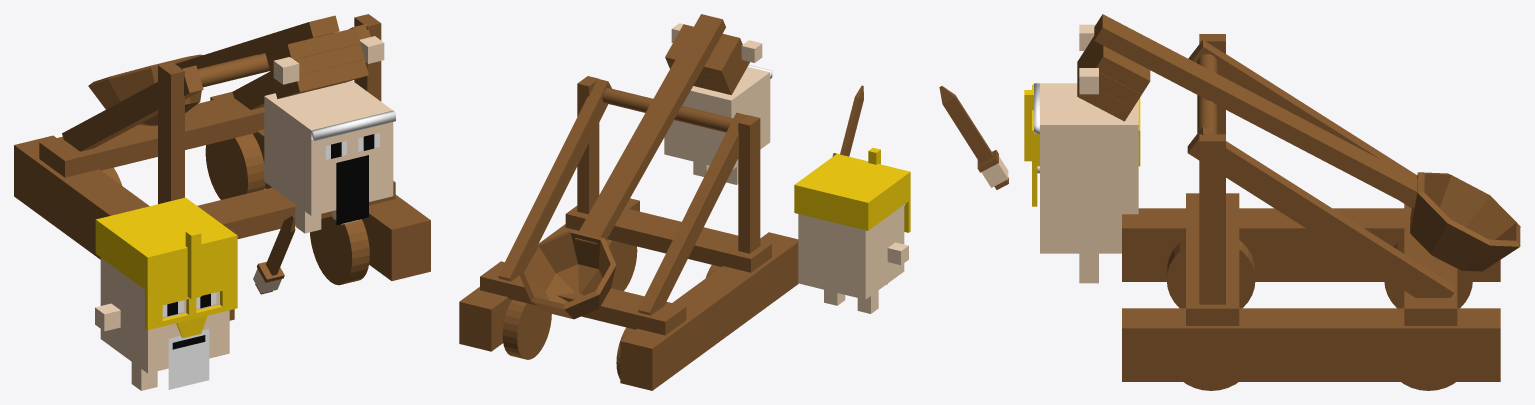
The model's file is Artillery1.fbx.
3 views of the same model, side by side, from view 1: azimuth 30°, elevation 25°; view 2: azimuth 150°, elevation 25°; view 3: azimuth 270°, elevation 25° (orthographic). The views are drawn at different scales.
Visible parts, largest first — view 1: Main Gauche.003; view 2: Main Gauche.003; view 3: Main Gauche.003.
Boxes of the visible parts, <box> form: Main Gauche.003: <box>14,14,430,390</box>; Main Gauche.003: <box>459,14,910,390</box>; Main Gauche.003: <box>939,14,1520,390</box>.
Size of the model in its own units: 848 by 741 by 1178.
1 material, 1 textured.
